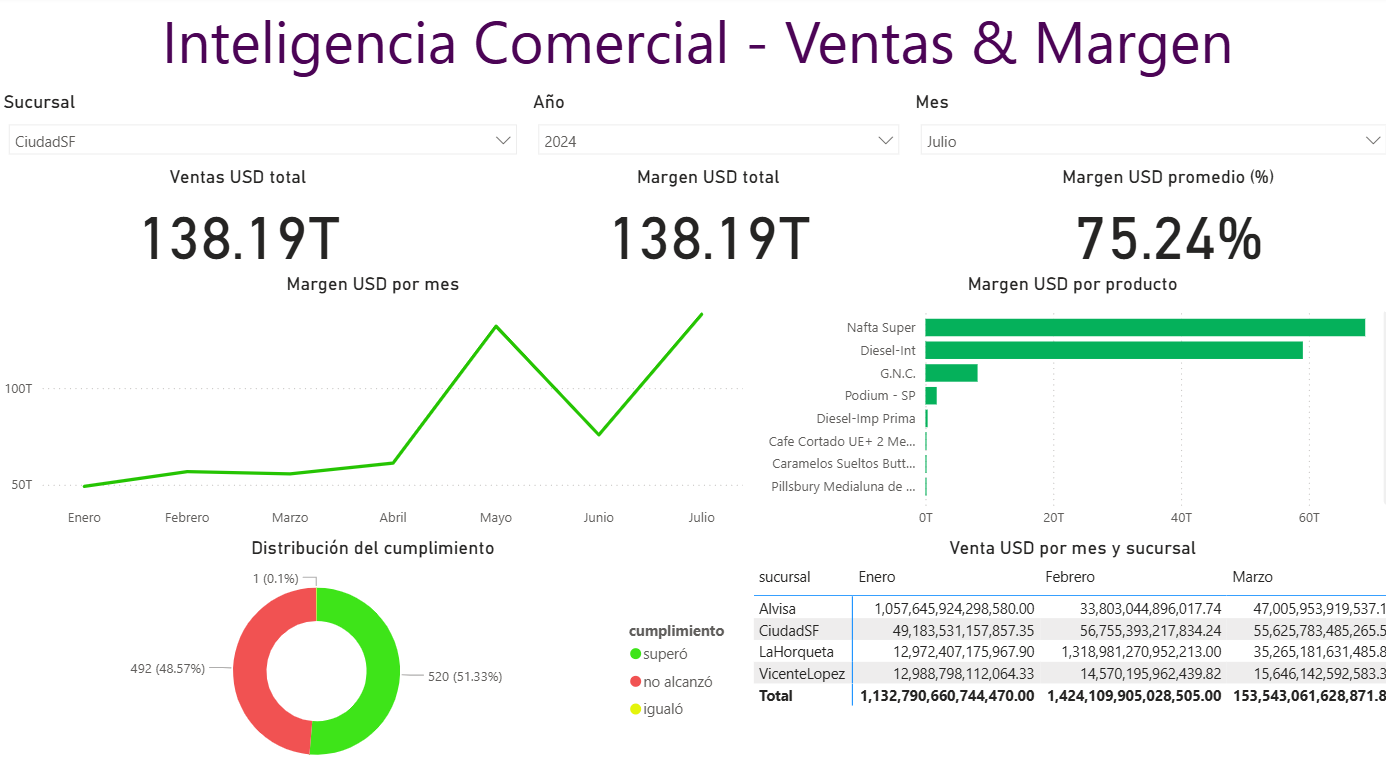

What the dashboard file says about the page in this screenshot:
{"tool":"powerbi","page":{"name":"Page 1","canvas":[1280,720],"ordinal":0},"visuals":[{"type":"slicer","title":"Sucursal","fields":{"Values":["ventas.sucursal"]},"box":[0,87.8,484.4,68.6],"z":0},{"type":"slicer","title":"Año","fields":{"Values":["ventas.year"]},"box":[484.4,87.8,349.9,68.6],"z":1000},{"type":"slicer","title":"Mes","fields":{"Values":["ventas.month_name"]},"box":[834.4,87.8,446,68.6],"z":2000},{"type":"card","title":"Ventas USD total","fields":{"Values":["Sum(ventas.venta_usd)"]},"box":[0,156.4,439.1,97.4],"z":3000},{"type":"card","title":"Margen USD total","fields":{"Values":["Sum(ventas.margen_usd)"]},"box":[439.1,156.4,421.3,97.4],"z":4000},{"type":"card","title":"Margen USD promedio (%)","fields":{"Values":["Avg(ventas.margen_porc_usd)"]},"box":[860.4,156.4,419.9,97.4],"z":5000},{"type":"lineChart","title":"Margen USD por mes","fields":{"Category":["ventas.month_name"],"Y":["Sum(ventas.margen_usd)"]},"box":[0,253.9,686.2,241.5],"z":7000},{"type":"clusteredBarChart","title":"Margen USD por producto","fields":{"Category":["ventas.desc_articulo"],"Y":["Sum(ventas.margen_usd)"]},"box":[686.2,253.9,594.2,241.5],"z":7001},{"type":"donutChart","title":"Distribución del cumplimiento","fields":{"Category":["ventas.cumplimiento_objetivo"],"Y":["ventas.cantidad_productos"]},"box":[0,495.4,686.2,225.1],"z":7002},{"type":"pivotTable","title":"Venta USD por mes y sucursal","fields":{"Rows":["ventas.sucursal"],"Columns":["ventas.month_name"],"Values":["Sum(ventas.venta_usd)"]},"box":[686.2,495.4,594.2,225.1],"z":7003},{"type":"textbox","box":[0,0,1280.4,87.8],"z":7004}]}

Visuals, with their boxes in screenshot pixels (x1, y1, x2, y2), scaled from the page's 1280x720 canvas onto the 1386x762 screenshot:
"Sucursal" slicer: box=[0, 93, 525, 166]
"Año" slicer: box=[525, 93, 903, 166]
"Mes" slicer: box=[903, 93, 1385, 166]
"Ventas USD total" card: box=[0, 166, 475, 269]
"Margen USD total" card: box=[475, 166, 932, 269]
"Margen USD promedio (%)" card: box=[932, 166, 1385, 269]
"Margen USD por mes" lineChart: box=[0, 269, 743, 524]
"Margen USD por producto" clusteredBarChart: box=[743, 269, 1385, 524]
"Distribución del cumplimiento" donutChart: box=[0, 524, 743, 761]
"Venta USD por mes y sucursal" pivotTable: box=[743, 524, 1385, 761]
textbox: box=[0, 0, 1385, 93]
